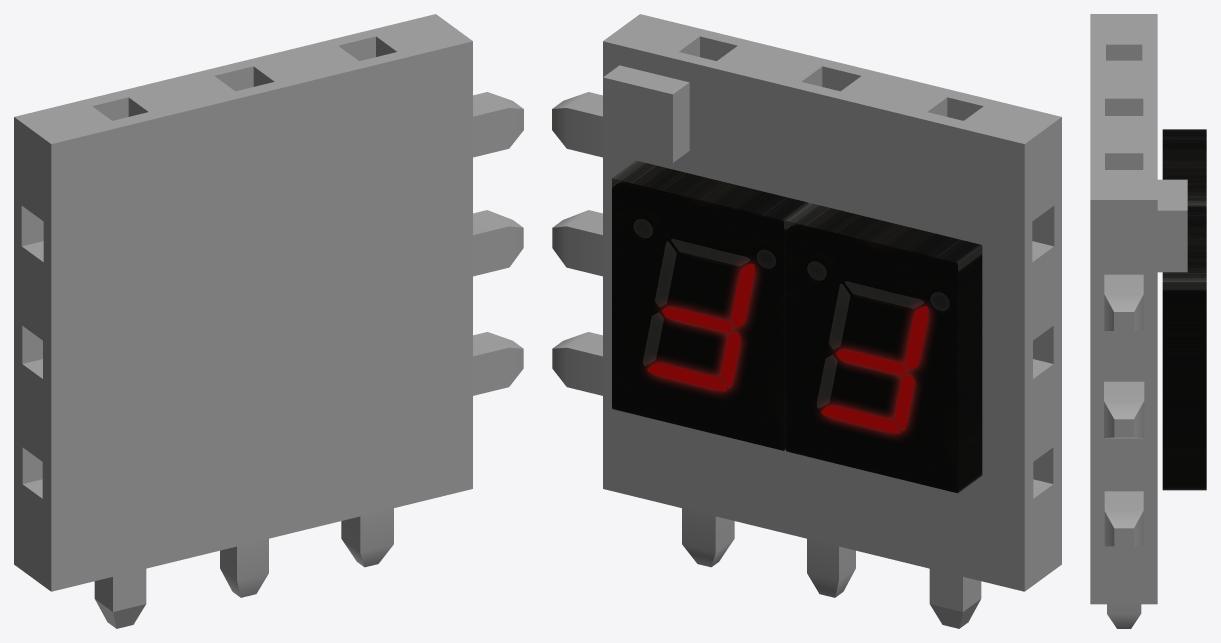
Rendered from UnitCell.fbx.
3 renders of one model, left to right at view 1: azimuth 30°, elevation 25°; view 2: azimuth 150°, elevation 25°; view 3: azimuth 270°, elevation 25°, orthographic. The views are drawn at different scales.
Visible parts, largest first — view 1: pCube1; view 2: pCube1, pCube2, pCube4, pCube3; view 3: pCube1, pCube4, pCube3, pCube2.
Boxes of the visible parts, box(x1,y1,x2,y2) form: pCube1: box(14, 14, 523, 628); pCube1: box(552, 14, 1061, 628); pCube2: box(786, 203, 982, 493); pCube4: box(612, 160, 808, 450); pCube3: box(603, 65, 689, 162); pCube1: box(1090, 14, 1157, 628); pCube4: box(1162, 206, 1206, 490); pCube3: box(1157, 179, 1187, 272); pCube2: box(1162, 129, 1206, 205).
Size of the model in its own units: 55.84 by 56.52 by 12.8.
